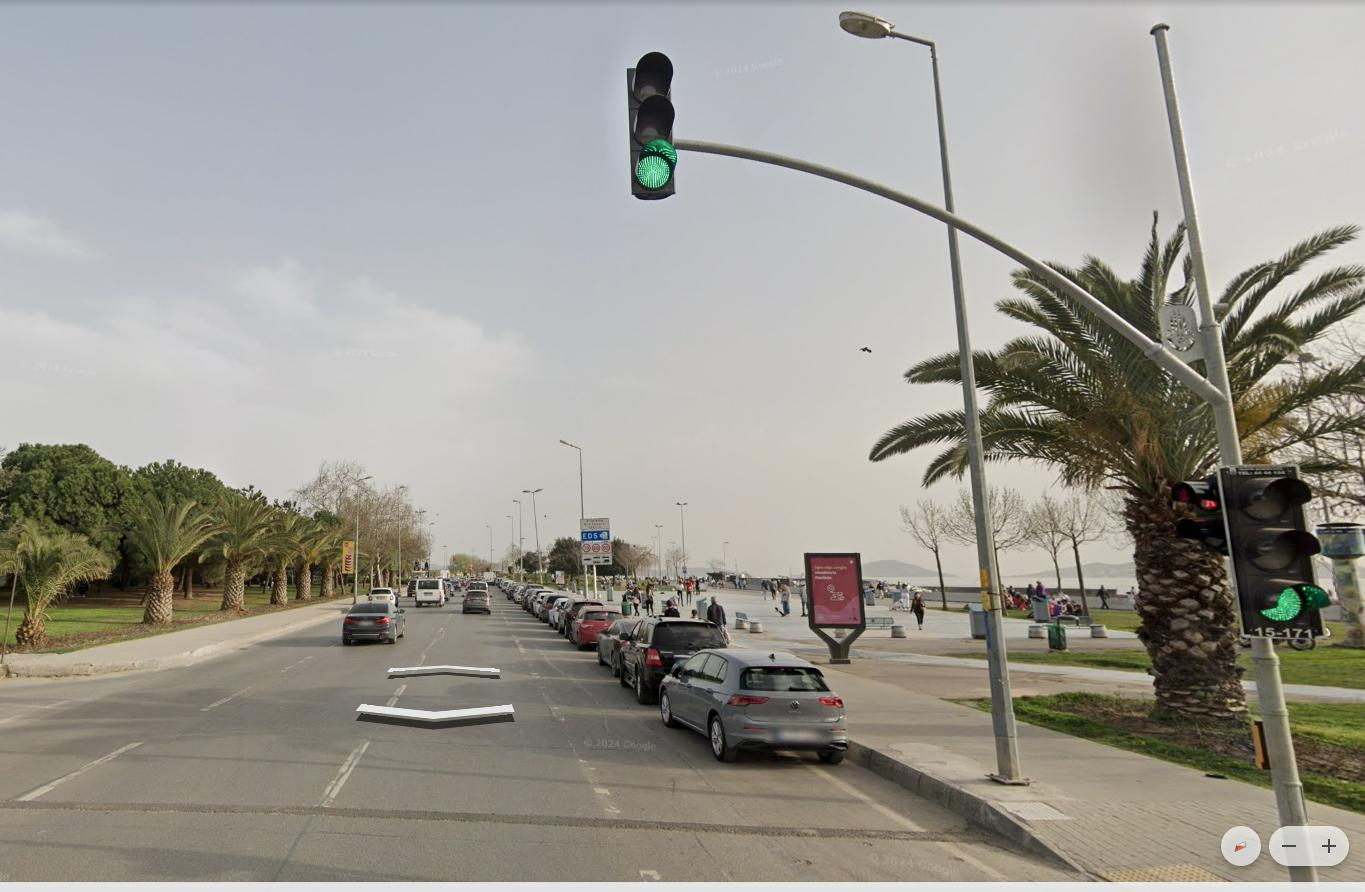greenlight: (1238, 465, 1314, 644), (626, 49, 680, 204)
